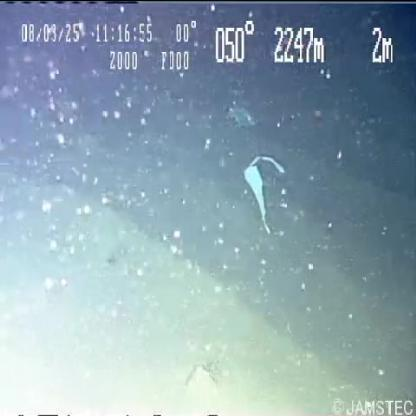Rác: (244, 158, 268, 228)
